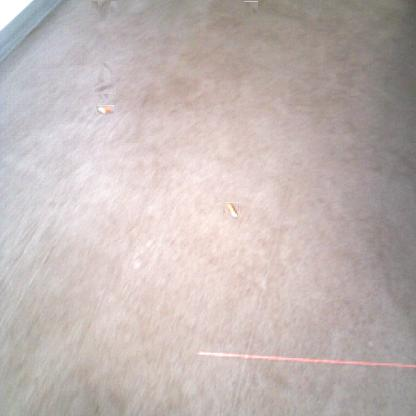dirty: (224, 203, 239, 219), (96, 105, 114, 114)
mark: (94, 0, 114, 18), (95, 79, 113, 97), (244, 2, 259, 16), (100, 62, 114, 76), (94, 404, 100, 416)
